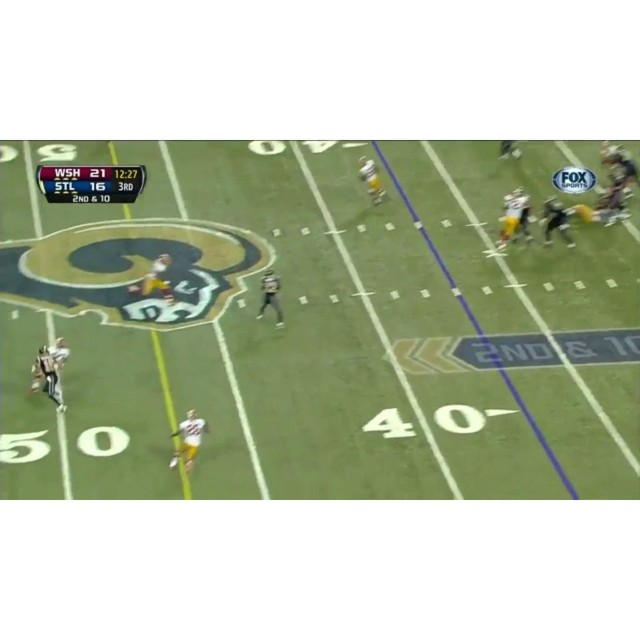american-football-player: (168, 409, 208, 474), (31, 346, 68, 415), (128, 253, 175, 304), (539, 195, 577, 250), (255, 267, 286, 329), (496, 191, 525, 249), (357, 156, 389, 205)
